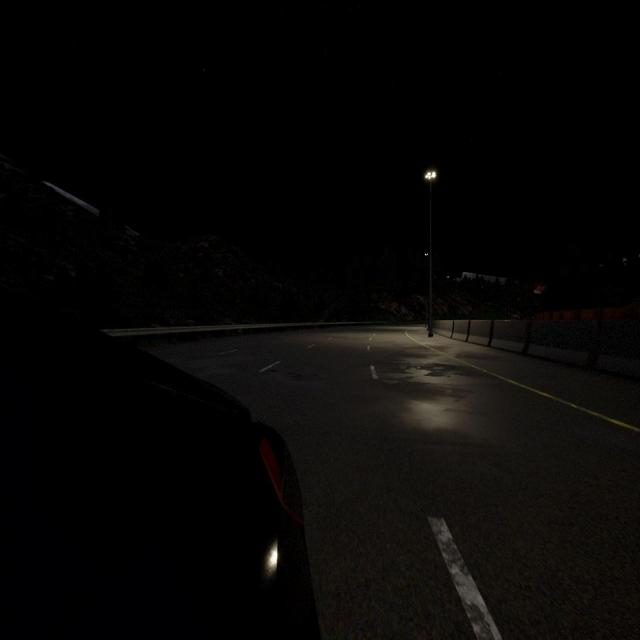Vehicle: (0, 252, 319, 640)
